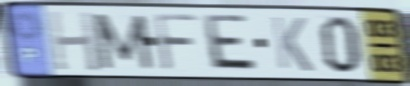0: (317, 14, 364, 76)
E: (203, 12, 260, 75)
F: (151, 11, 201, 73)
H: (45, 8, 103, 74)
K: (269, 14, 315, 74)
M: (89, 11, 156, 71)
